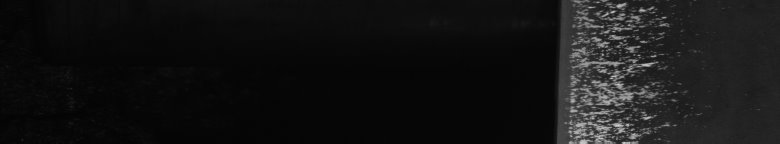kb: (568, 4, 636, 136)
